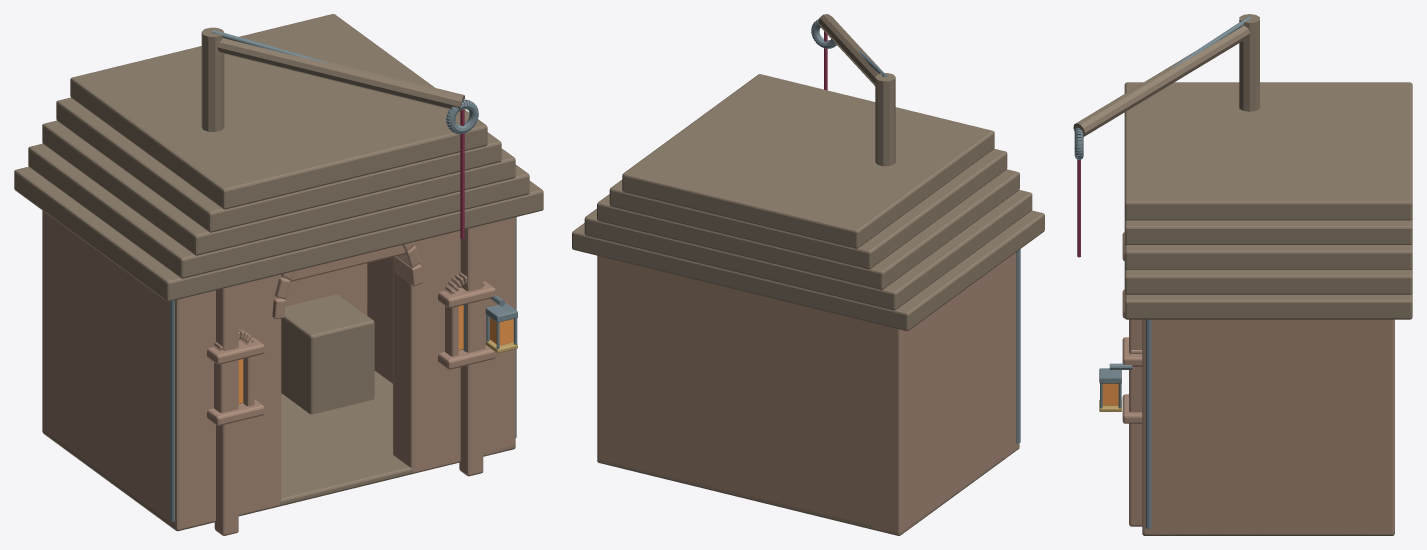
Rendered from a2_service_4.glb.
3 views of the same model, side by side, from view 1: azimuth 30°, elevation 25°; view 2: azimuth 150°, elevation 25°; view 3: azimuth 270°, elevation 25° (orthographic). The views are drawn at different scales.
Visible parts, largest first — view 1: Roof.004, Front.004, Side.004, Body.004; view 2: Roof.004, Body.004, Side.004, Front.004; view 3: Roof.004, Side.004, Body.004, Front.004.
Boxes of the visible parts, x1=… form: Roof.004: x1=14, y1=14, x2=543, y2=301; Front.004: x1=159, y1=218, x2=517, y2=535; Side.004: x1=42, y1=215, x2=516, y2=529; Body.004: x1=42, y1=210, x2=515, y2=531; Roof.004: x1=572, y1=14, x2=1044, y2=330; Body.004: x1=597, y1=255, x2=1019, y2=535; Side.004: x1=598, y1=249, x2=1020, y2=534; Front.004: x1=1004, y1=252, x2=1019, y2=459; Roof.004: x1=1073, y1=14, x2=1412, y2=319; Side.004: x1=1142, y1=319, x2=1392, y2=534; Body.004: x1=1142, y1=319, x2=1394, y2=535; Front.004: x1=1099, y1=232, x2=1175, y2=535.
Size of the model in its own units: 3.22 by 3.64 by 2.69.
